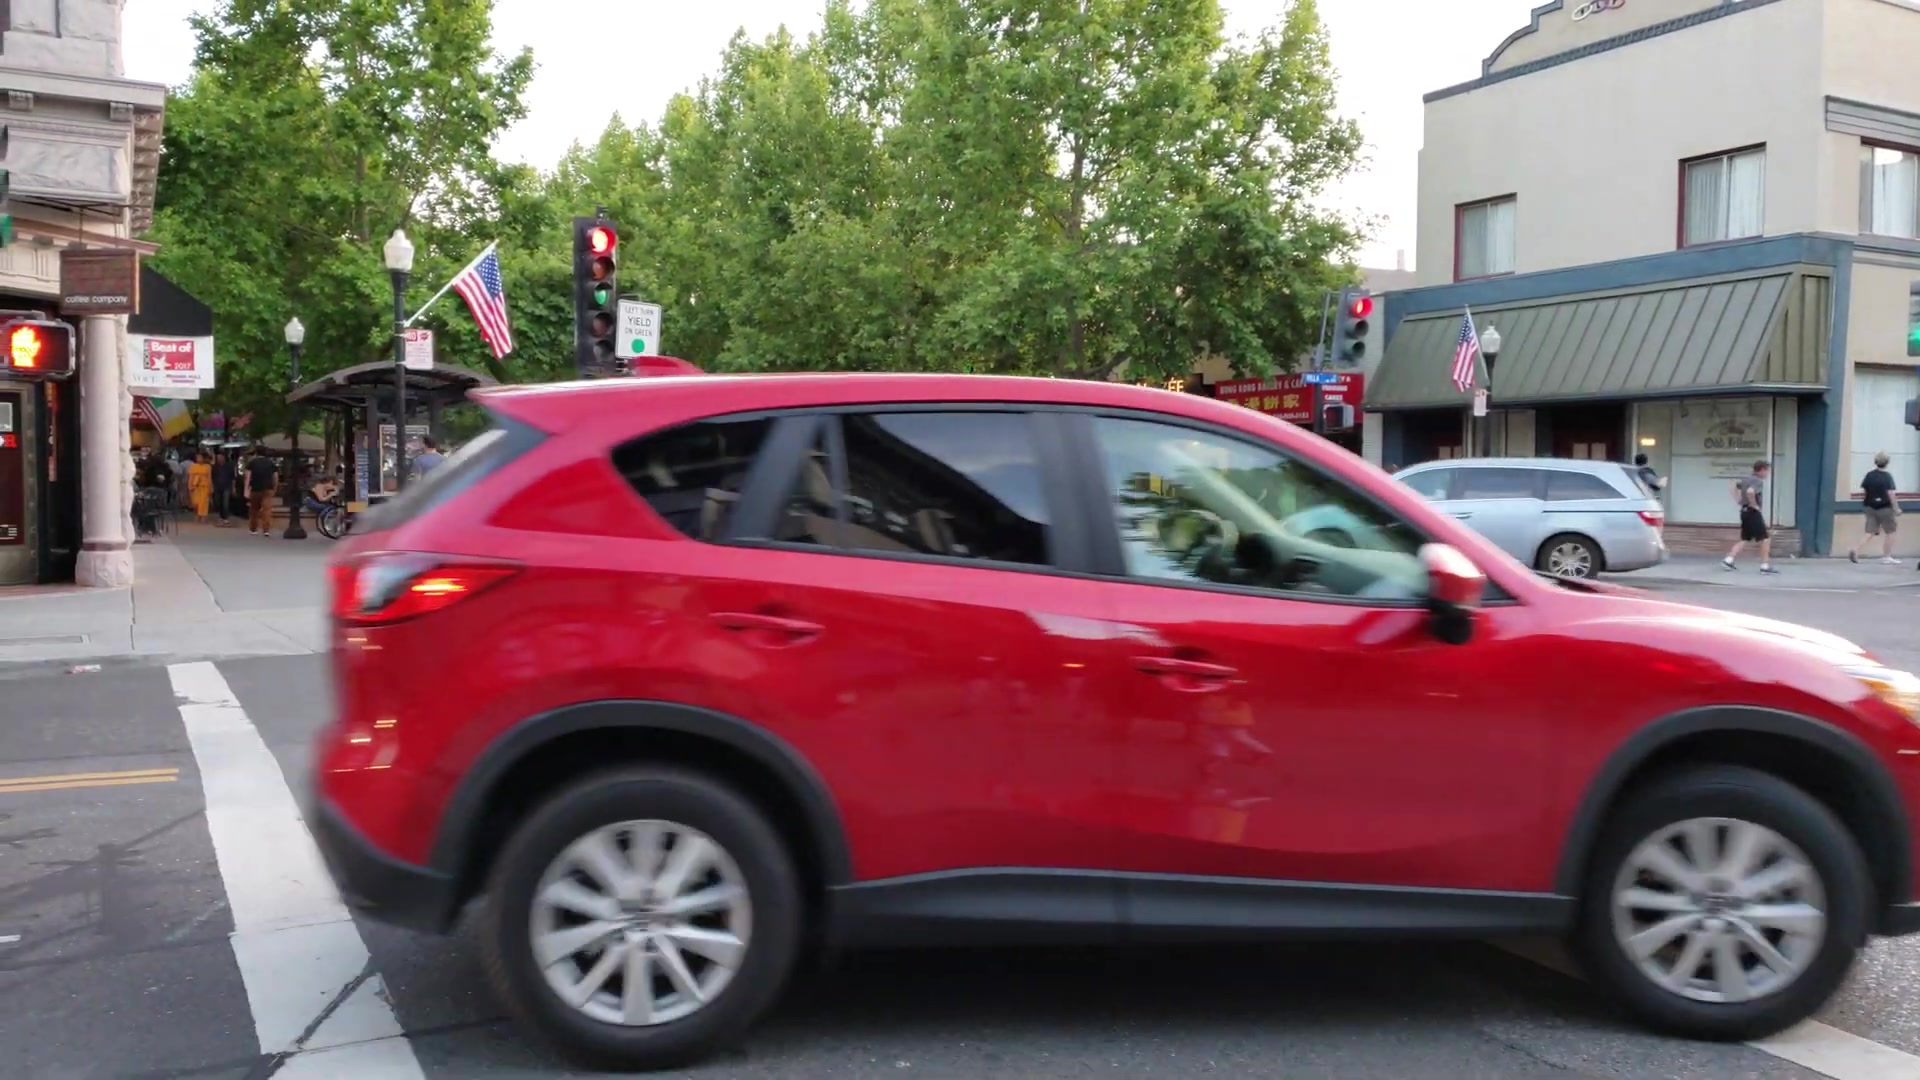vehicle: (334, 371, 1920, 1035), (1266, 455, 1665, 574)
